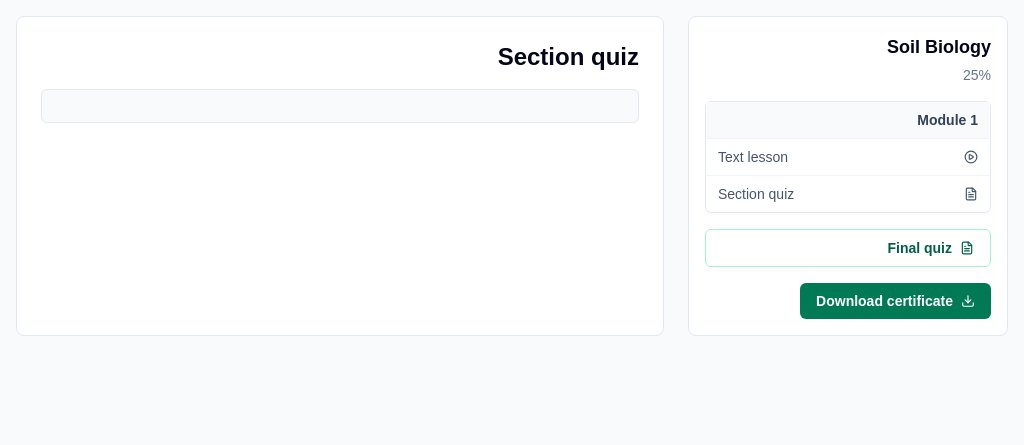
Test: course UI smoke flows › renders quiz questions and submits selected answers
Click the button "Section quiz": [756, 194] box [706,175,990,212]
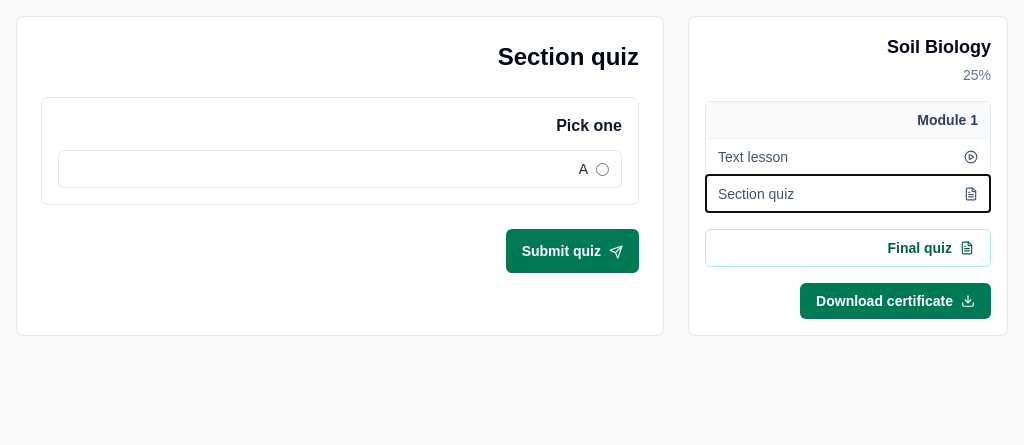
Click the radio button labelled "A": [602, 169] box [596,162,609,176]
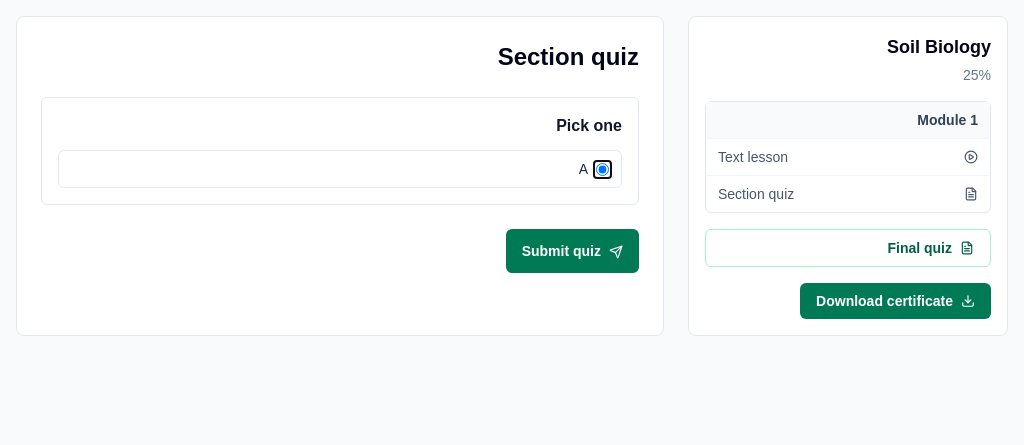
Click the button "Submit quiz": [572, 251] box [506,229,639,273]
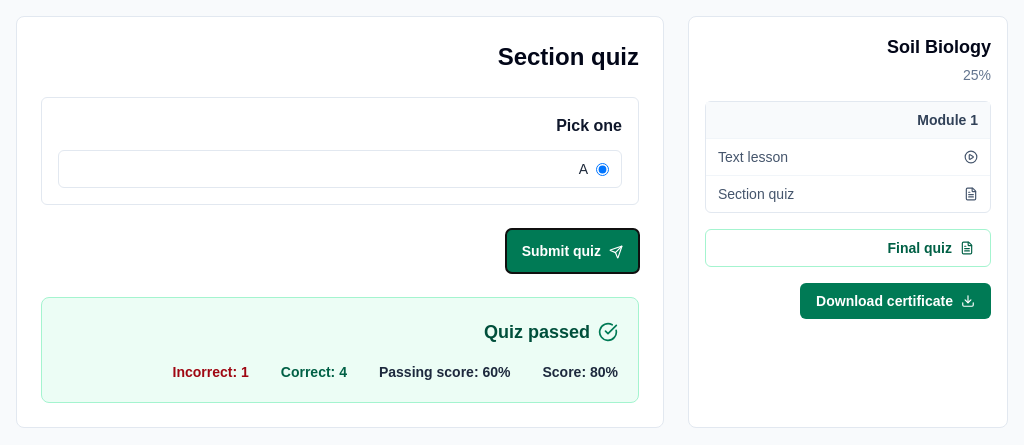
expect the text "Quiz passed" is shown: met, box [484,318,590,346]
expect the text "Score: 80%" is shown: met, box [542,362,618,382]
expect the text "Passing score: 60%" is shown: met, box [379,362,510,382]
